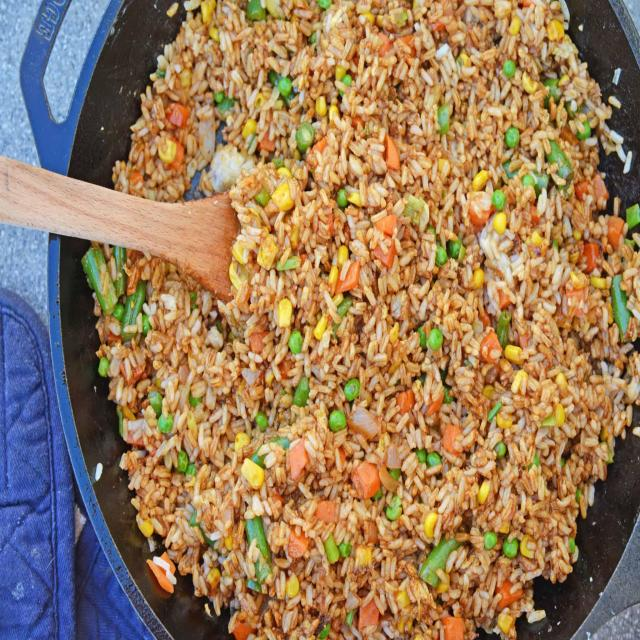Nasi Goreng: (82, 1, 638, 637)
